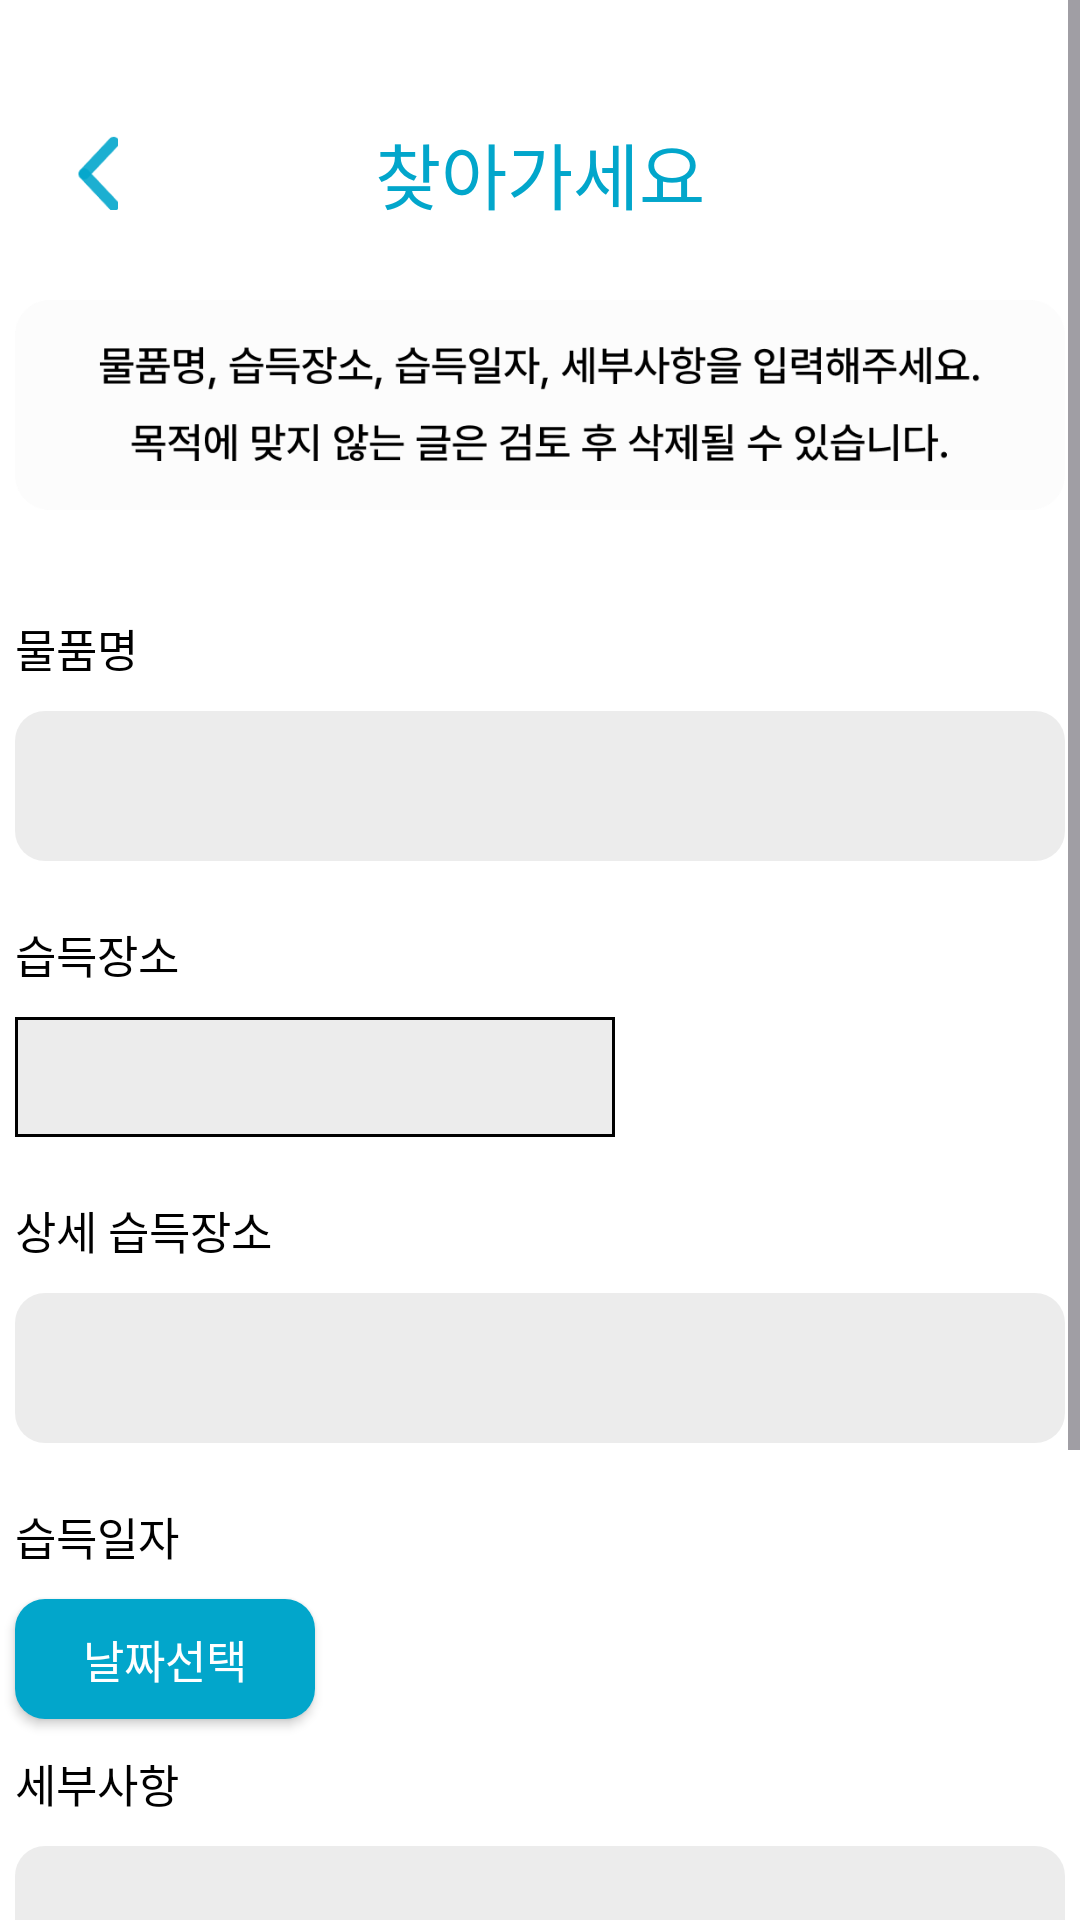

Named icons in this screenshot (1080*1920) and their bounding boxes, (x1, y1, x2, y2):
back: (78, 136, 118, 210)
